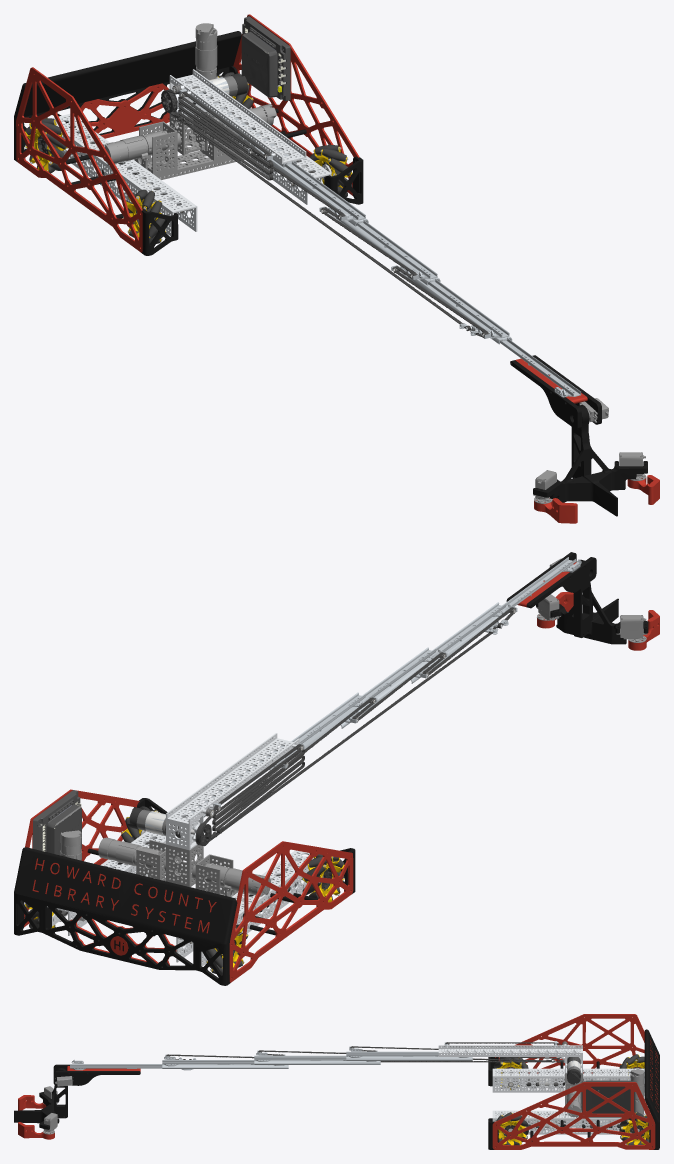
File: robot.glb
3 views of the same model, one above another, from view 1: azimuth 30°, elevation 25°; view 2: azimuth 150°, elevation 25°; view 3: azimuth 270°, elevation 25° (orthographic). The views are drawn at different scales.
Parts seen in each view (by area): view 1: anim_hc_12_G_SIDEPLATES__0, anim_hc_26_G_BACKPLATE__0, anim_hc_0_G_CHASSIS__0, anim_hc_9_G_WRIST__0, anim_hc_13_G_SLIDE_BASE__0, object 31, object 39, anim_hc_23_G_BELT_EXT__0, object 23, anim_hc_24_G_BELT_RET__0, anim_hc_1_G_WHEELS__2, anim_hc_26_G_BACKPLATE__1 (+10 smaller); view 2: anim_hc_26_G_BACKPLATE__0, anim_hc_12_G_SIDEPLATES__0, anim_hc_13_G_SLIDE_BASE__0, anim_hc_0_G_CHASSIS__0, object 39, anim_hc_23_G_BELT_EXT__0, anim_hc_9_G_WRIST__0, anim_hc_24_G_BELT_RET__0, object 31, anim_hc_6_G_PIVOT_MOTORS__0, anim_hc_26_G_BACKPLATE__1, anim_hc_7_G_TOWERS__0 (+10 smaller); view 3: anim_hc_12_G_SIDEPLATES__0, anim_hc_0_G_CHASSIS__0, anim_hc_13_G_SLIDE_BASE__0, anim_hc_26_G_BACKPLATE__0, anim_hc_23_G_BELT_EXT__0, anim_hc_15_G_STAGE_1__0, anim_hc_17_G_STAGE_2__0, anim_hc_9_G_WRIST__0, anim_hc_19_G_STAGE_3__0, object 30, anim_hc_1_G_WHEELS__0, anim_hc_1_G_WHEELS__2 (+11 smaller).
Part boxes in pixels (left/top/right/bottom): anim_hc_12_G_SIDEPLATES__0: left=16, top=14, right=359, bottom=252; anim_hc_26_G_BACKPLATE__0: left=14, top=31, right=241, bottom=135; anim_hc_0_G_CHASSIS__0: left=52, top=102, right=331, bottom=235; anim_hc_9_G_WRIST__0: left=533, top=405, right=647, bottom=516; anim_hc_13_G_SLIDE_BASE__0: left=169, top=69, right=306, bottom=163; object 31: left=241, top=16, right=290, bottom=101; object 39: left=14, top=66, right=363, bottom=255; anim_hc_23_G_BELT_EXT__0: left=168, top=91, right=488, bottom=337; object 23: left=76, top=23, right=250, bottom=179; anim_hc_24_G_BELT_RET__0: left=166, top=89, right=273, bottom=180; anim_hc_1_G_WHEELS__2: left=25, top=72, right=352, bottom=243; anim_hc_26_G_BACKPLATE__1: left=69, top=83, right=169, bottom=138; anim_hc_26_G_BACKPLATE__0: left=14, top=847, right=237, bottom=970; anim_hc_12_G_SIDEPLATES__0: left=24, top=789, right=353, bottom=982; anim_hc_13_G_SLIDE_BASE__0: left=166, top=733, right=299, bottom=850; anim_hc_0_G_CHASSIS__0: left=47, top=831, right=313, bottom=966; object 39: left=14, top=798, right=355, bottom=985; anim_hc_23_G_BELT_EXT__0: left=199, top=607, right=513, bottom=841; anim_hc_9_G_WRIST__0: left=536, top=559, right=648, bottom=644; anim_hc_24_G_BELT_RET__0: left=196, top=744, right=304, bottom=845; object 31: left=33, top=790, right=81, bottom=855; anim_hc_6_G_PIVOT_MOTORS__0: left=98, top=837, right=270, bottom=896; anim_hc_26_G_BACKPLATE__1: left=32, top=858, right=216, bottom=965; anim_hc_7_G_TOWERS__0: left=136, top=840, right=233, bottom=895; anim_hc_12_G_SIDEPLATES__0: left=492, top=1014, right=655, bottom=1149; anim_hc_0_G_CHASSIS__0: left=492, top=1068, right=649, bottom=1134; anim_hc_13_G_SLIDE_BASE__0: left=438, top=1044, right=582, bottom=1073; anim_hc_26_G_BACKPLATE__0: left=644, top=1029, right=659, bottom=1122; anim_hc_23_G_BELT_EXT__0: left=166, top=1042, right=563, bottom=1062; anim_hc_15_G_STAGE_1__0: left=346, top=1046, right=472, bottom=1060; anim_hc_17_G_STAGE_2__0: left=254, top=1050, right=380, bottom=1064; anim_hc_9_G_WRIST__0: left=14, top=1068, right=67, bottom=1129; anim_hc_19_G_STAGE_3__0: left=162, top=1054, right=288, bottom=1068; object 30: left=582, top=1086, right=634, bottom=1113; anim_hc_1_G_WHEELS__0: left=497, top=1054, right=649, bottom=1145; anim_hc_1_G_WHEELS__2: left=493, top=1054, right=649, bottom=1145.
Size of the model in its own units: 0.4304 by 0.2257 by 1.72.
